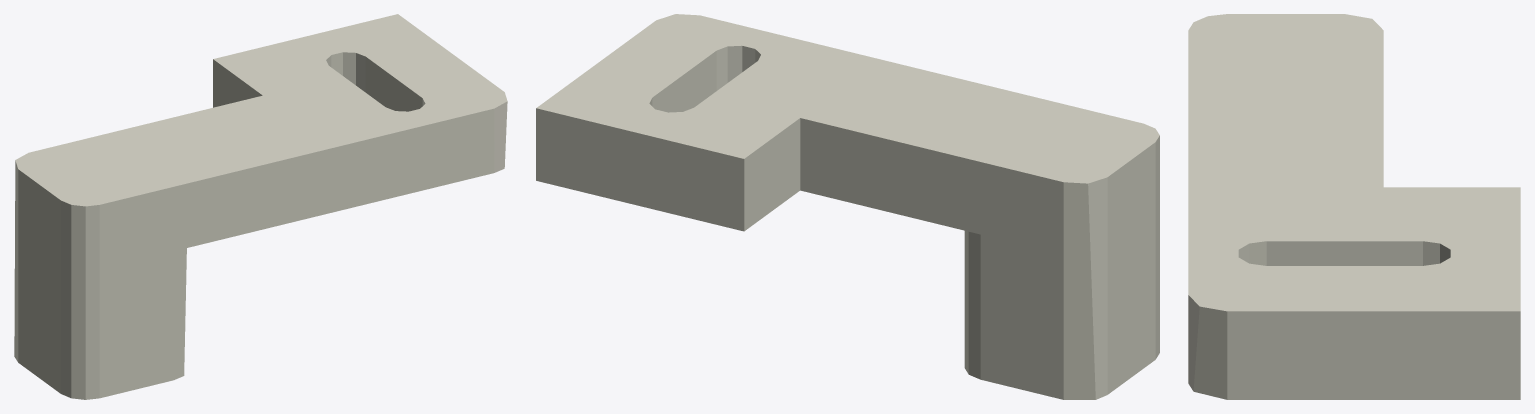
File: 5_Detail.fbx
3 renders of one model, left to right at view 1: azimuth 30°, elevation 25°; view 2: azimuth 150°, elevation 25°; view 3: azimuth 270°, elevation 25°, orthographic. The views are drawn at different scales.
Visible parts, largest first — view 1: 5_Detail; view 2: 5_Detail; view 3: 5_Detail.
Boxes of the visible parts, x1=… form: 5_Detail: x1=14, y1=14, x2=507, y2=399; 5_Detail: x1=536, y1=14, x2=1159, y2=399; 5_Detail: x1=1188, y1=14, x2=1520, y2=399.
Bounding box in the file's own units: 3600 × 1500 × 1700.
2 materials, 2 textured.
